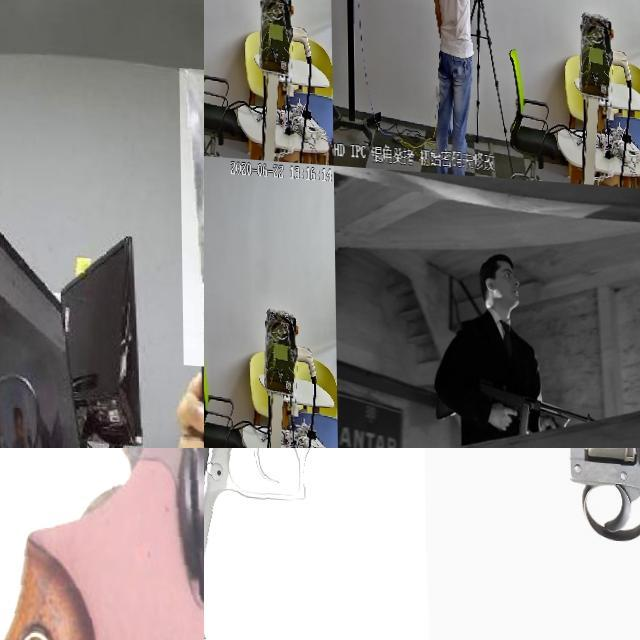-: (179, 61, 204, 362)
gun-knife-thesis - v11 Yolov5 augmented: (204, 448, 426, 640), (423, 448, 640, 640), (0, 448, 204, 640), (426, 360, 603, 438), (497, 0, 517, 16), (204, 309, 213, 344), (204, 0, 214, 17)
